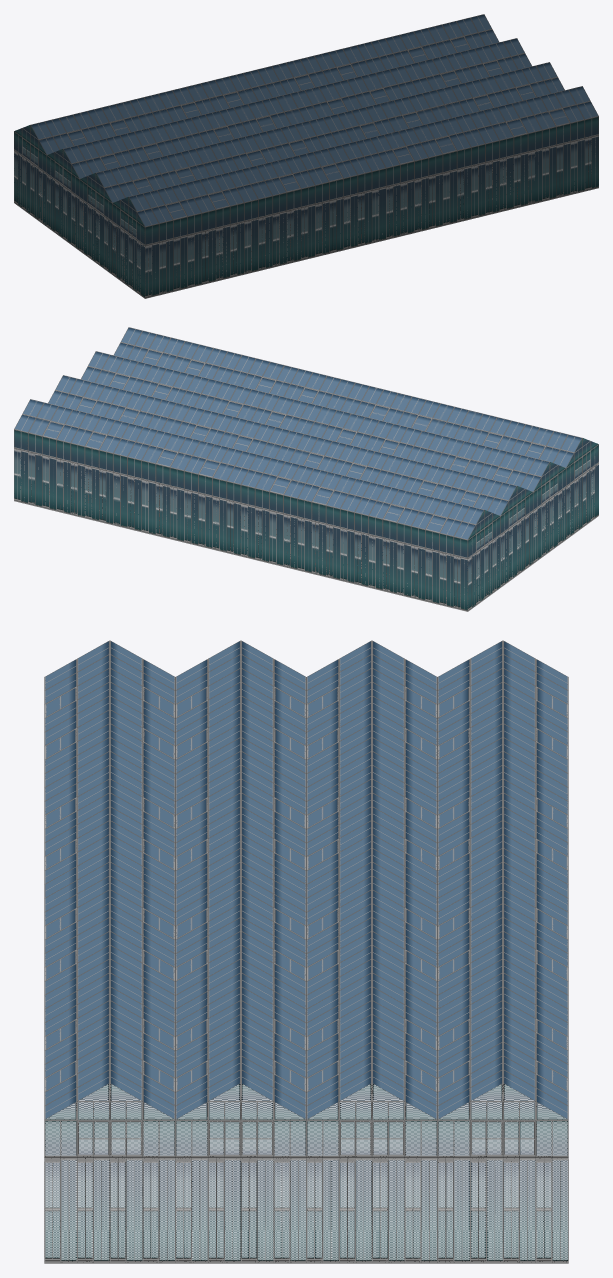
The model's file is kas_mod1_4a.fbx.
The picture shows the model from 3 angles, top to bottom: view 1: azimuth 30°, elevation 25°; view 2: azimuth 150°, elevation 25°; view 3: azimuth 270°, elevation 25°; orthographic projection. The views are drawn at different scales.
Parts seen in each view (by area): view 1: kas_mod1_4a; view 2: kas_mod1_4a; view 3: kas_mod1_4a.
Boxes of the visible parts, x1,y1,x2,y2 form: kas_mod1_4a: (14,14,598,298); kas_mod1_4a: (14,327,598,611); kas_mod1_4a: (44,640,568,1263).
Size of the model in its own units: 8000 by 1519 by 4000.
